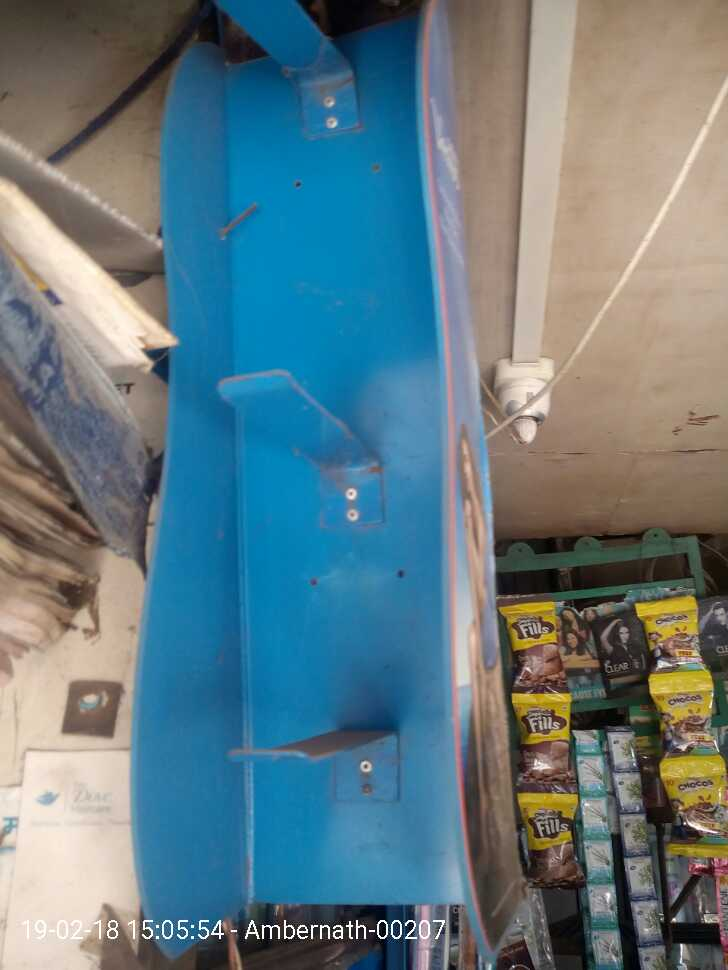reject: (215, 219, 413, 831)
